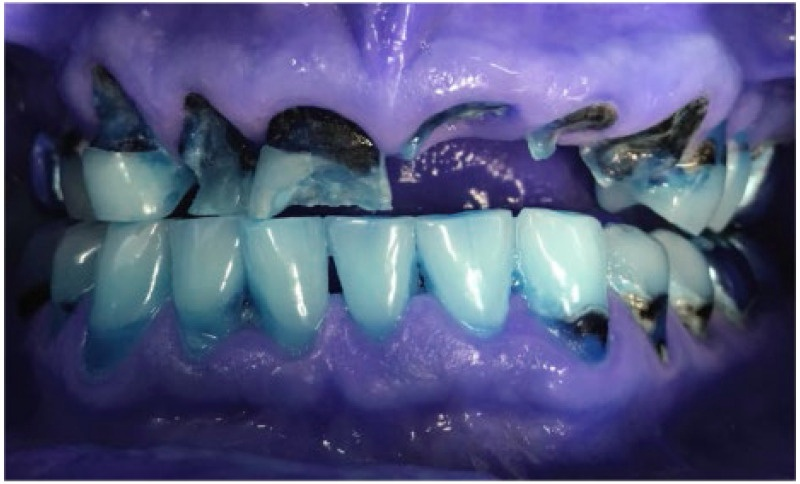karies: (267, 106, 385, 195), (588, 106, 706, 176), (176, 91, 252, 195), (86, 63, 153, 149), (415, 96, 517, 145), (535, 103, 623, 158), (629, 293, 672, 367), (557, 308, 612, 359), (81, 327, 138, 376), (223, 286, 271, 336), (694, 127, 735, 176), (682, 297, 716, 344), (404, 256, 436, 300), (49, 294, 84, 324)
